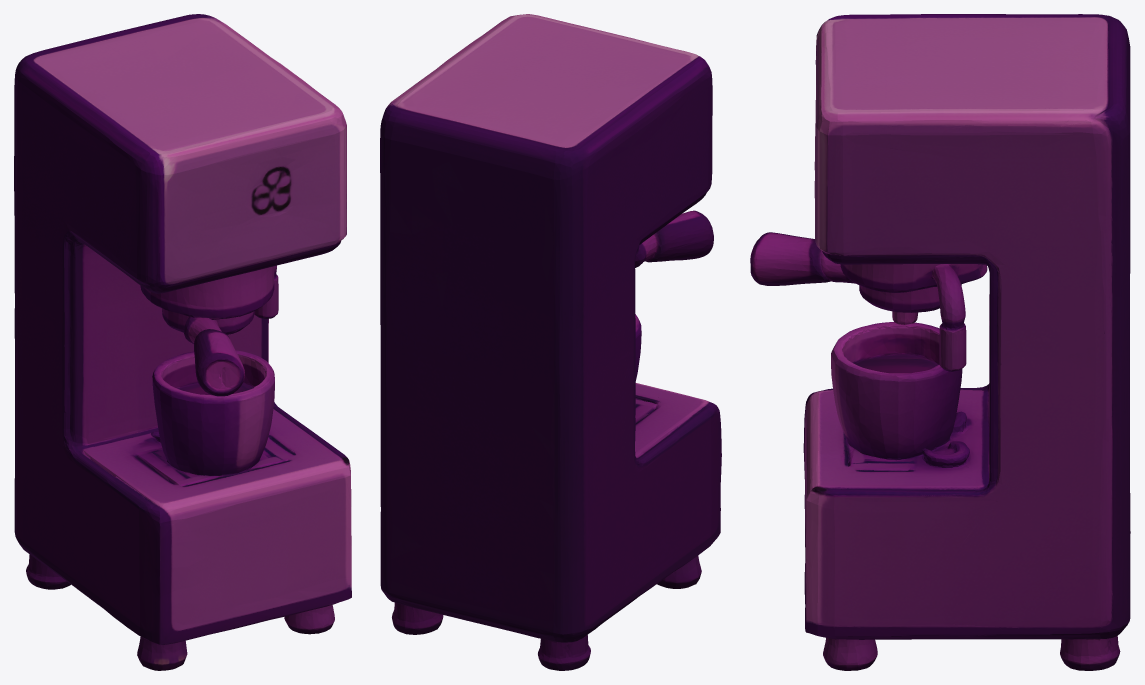
3 renders of one model, left to right at view 1: azimuth 30°, elevation 25°; view 2: azimuth 150°, elevation 25°; view 3: azimuth 270°, elevation 25°, orthographic. The views are drawn at different scales.
Parts seen in each view (by area): view 1: world; view 2: world; view 3: world.
Part boxes in pixels (box(x1,y1,x2,y2)): world: box(14, 14, 351, 670); world: box(380, 14, 721, 670); world: box(750, 14, 1130, 670).
Bounding box in the file's own units: 41.13 × 99.33 × 61.02.
Materials: 1 (1 with a texture image).
